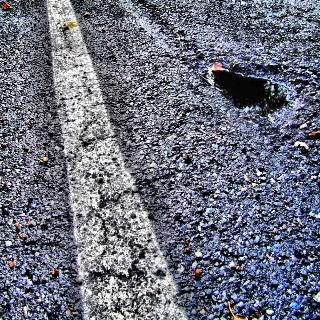pothole: (193, 31, 305, 129)
